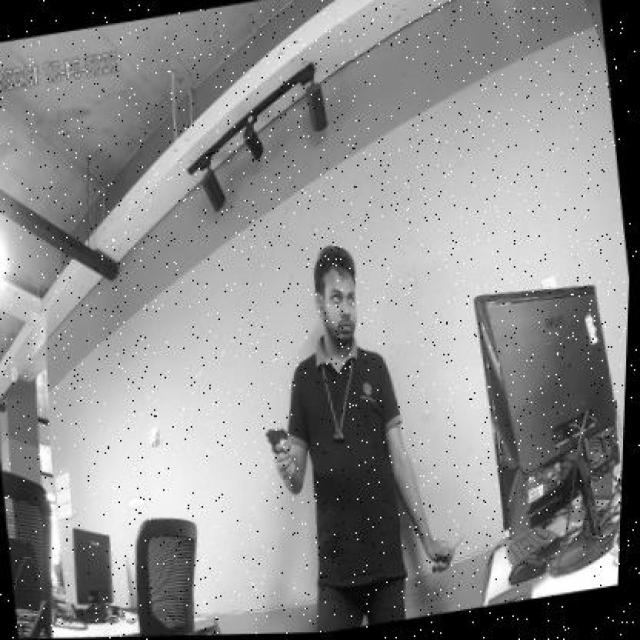weapon: (264, 427, 291, 456)
